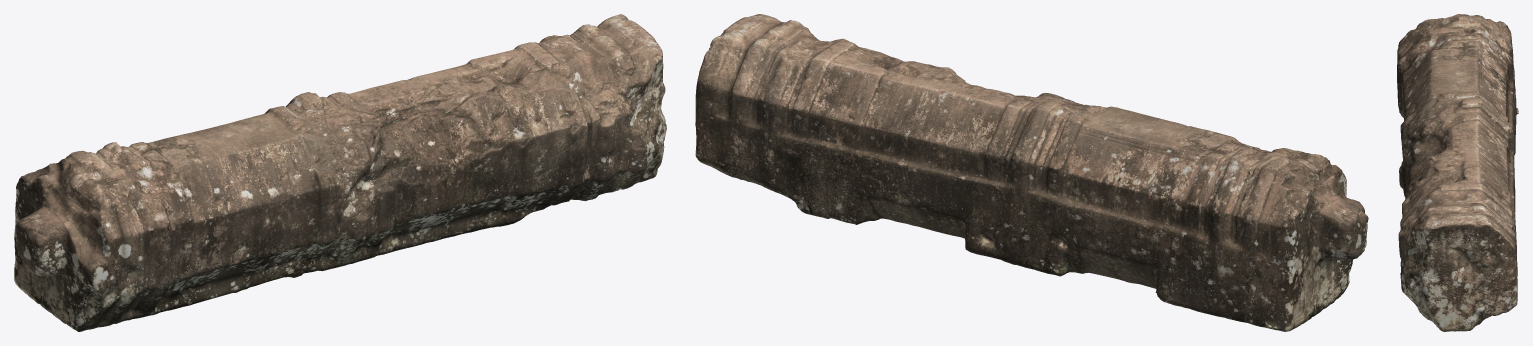
The model's file is 34_MysonSanctuaryD_Tru_final.glb.
The picture shows the model from 3 angles, left to right: view 1: azimuth 30°, elevation 25°; view 2: azimuth 150°, elevation 25°; view 3: azimuth 270°, elevation 25°; orthographic projection. The views are drawn at different scales.
Size of the model in its own units: 2.92 by 0.6767 by 0.6483.
Materials: 1 (1 with a texture image).
